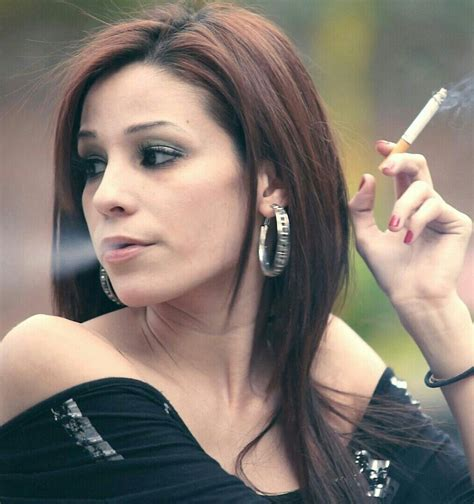cigarette: (387, 87, 448, 158)
